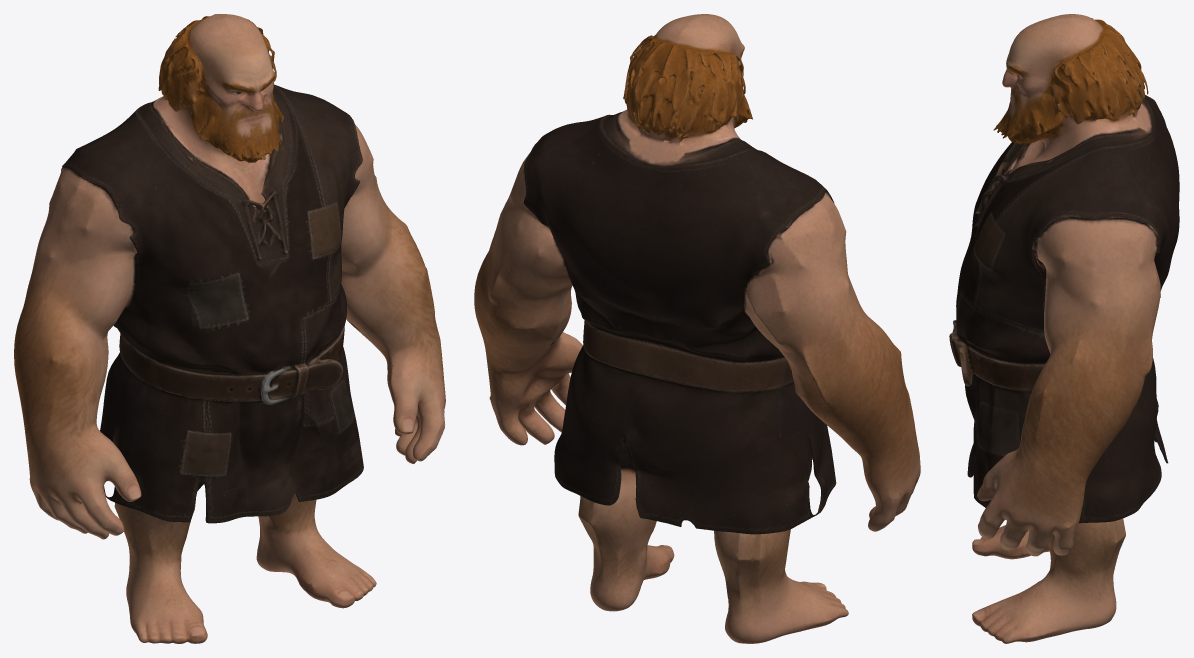
The model's file is gaint.glb.
3 renders of one model, left to right at view 1: azimuth 30°, elevation 25°; view 2: azimuth 150°, elevation 25°; view 3: azimuth 270°, elevation 25°, orthographic. The views are drawn at different scales.
Size of the model in its own units: 1.4 by 1.9 by 0.6901.
Materials: 1 (1 with a texture image).
